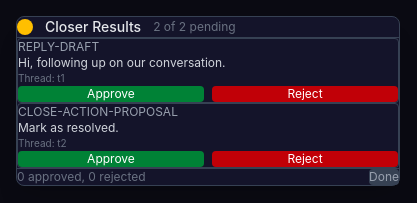
Test: ResultsOverlay › approving a proposal updates its status
The image size is (417, 203).
Click the button "Approve" below "t1" at (111, 94), box [18, 86, 204, 102]
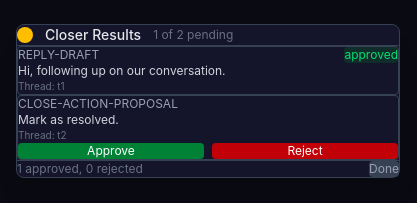
Now the text "1 of 2 pending" is shown, box [153, 27, 233, 43]
